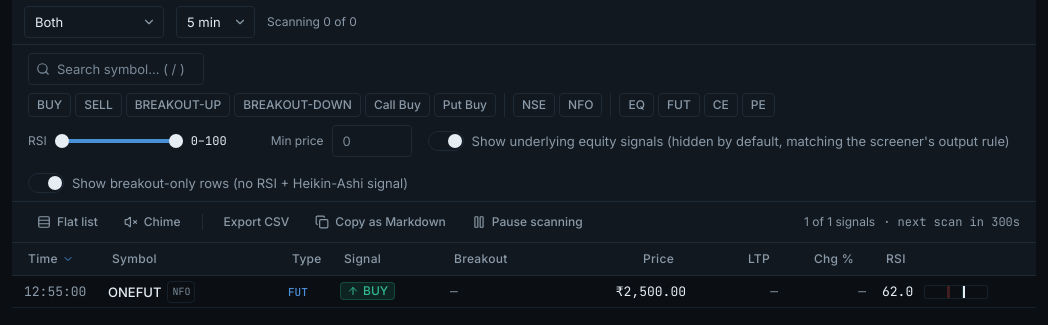
Test case: SignalsTable with the detail drawer switched off › the right-click menu has no "Open chart" item
Right-click the row "12:55:00 ONEFUT NFO FUT BUY — ₹2,500.00 — — 62.0".
right_click(524, 292)  # box [12,276,1036,308]
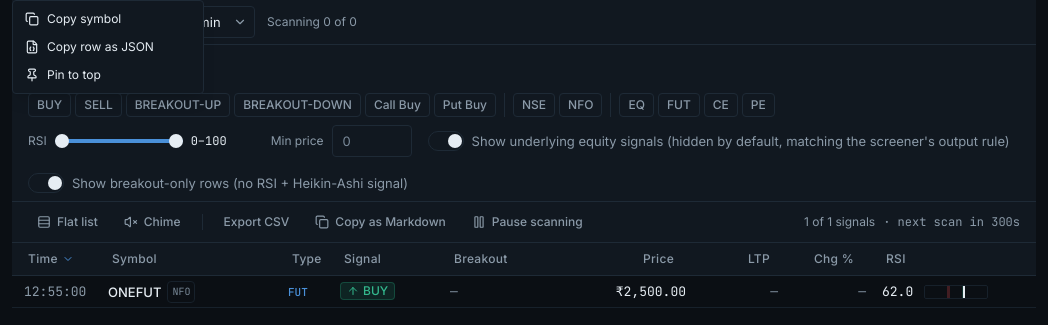
Result: the menu item "Pin to top" is shown at [13,61,203,89]
